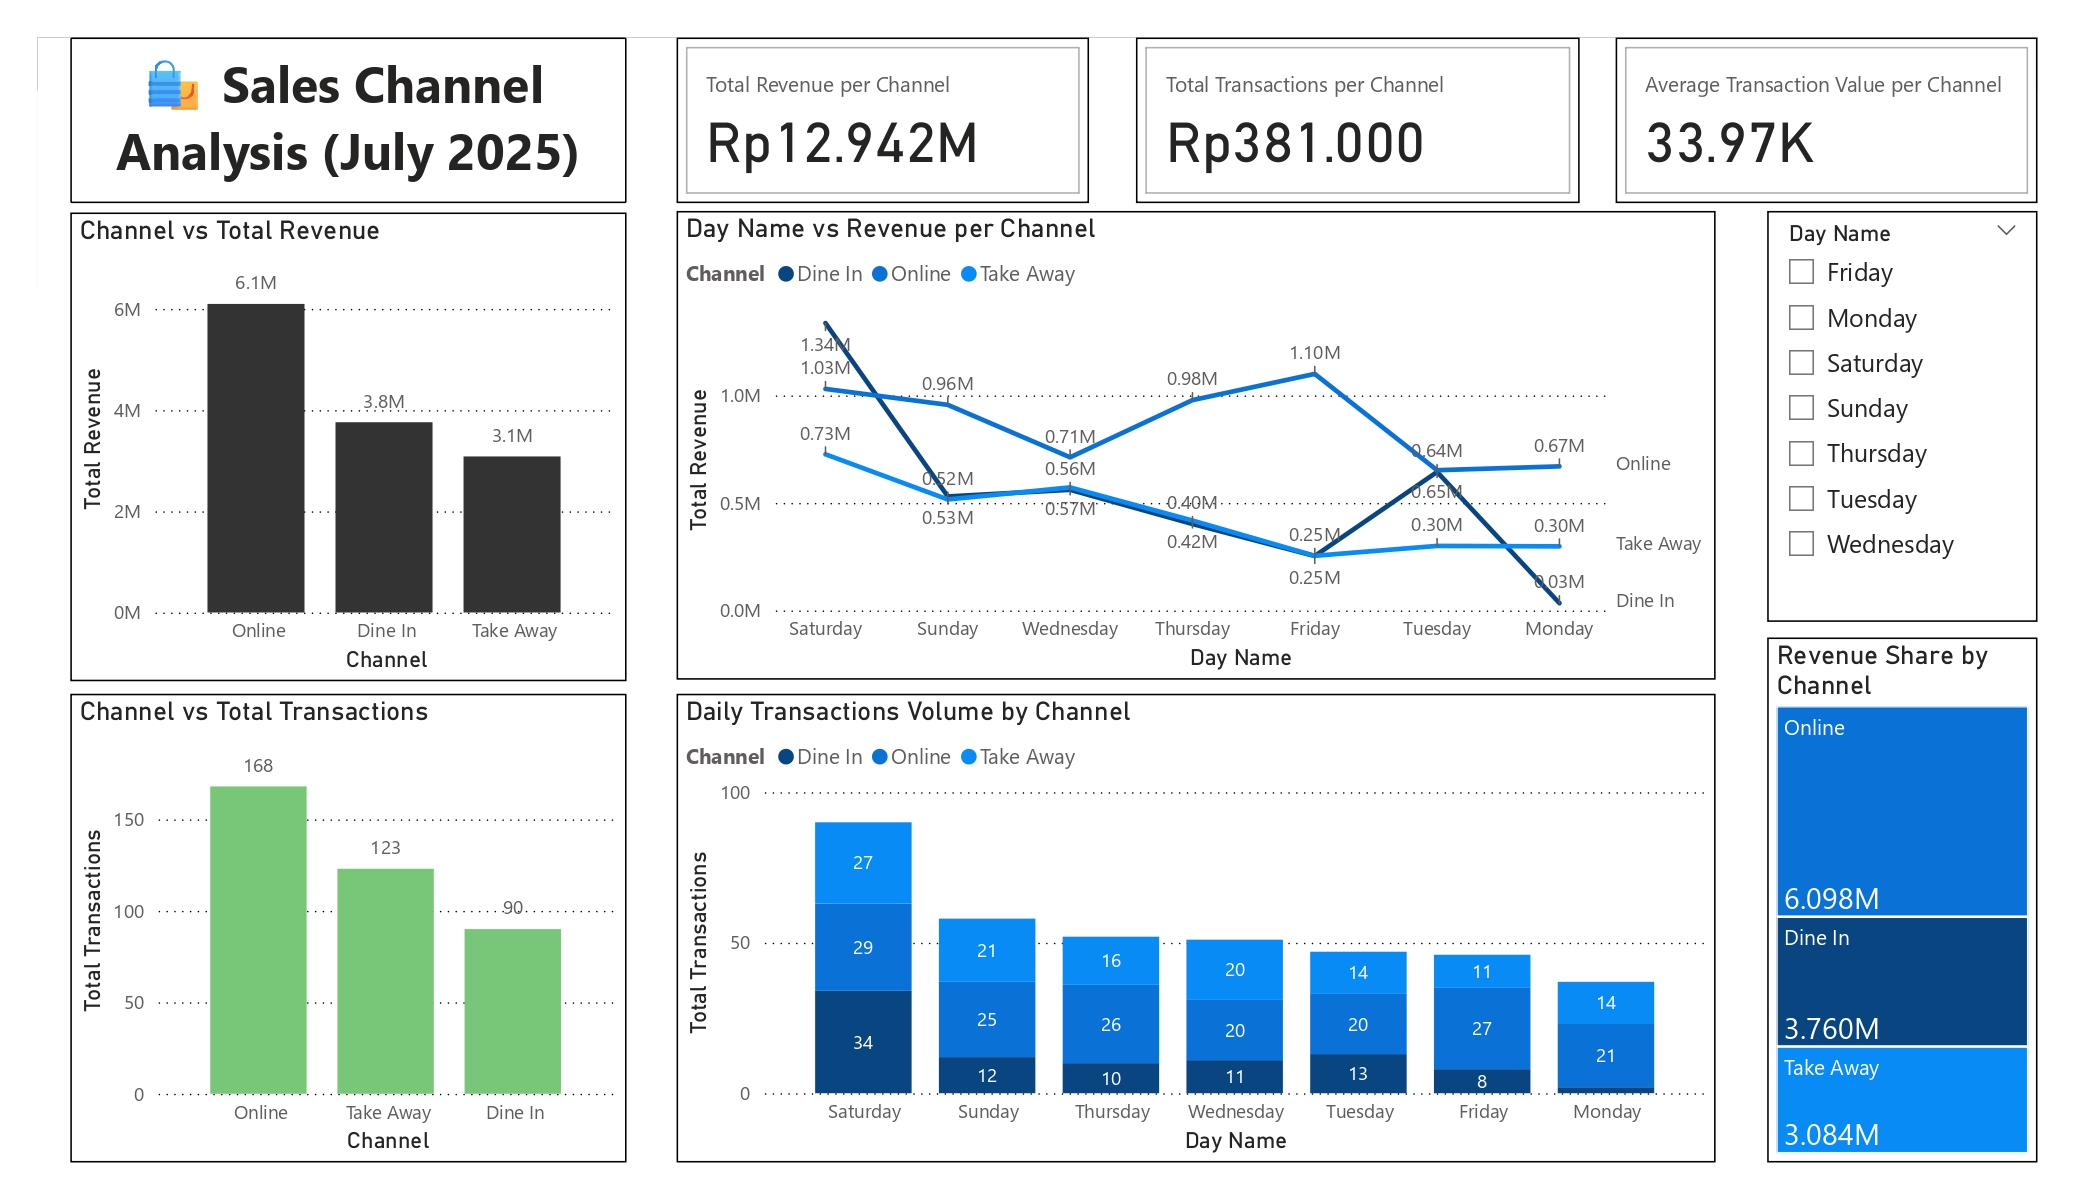

What the dashboard file says about the page in this screenshot:
{"tool":"powerbi","page":{"name":"sales_channel_analysis","canvas":[1280,720],"ordinal":3},"visuals":[{"type":"textbox","box":[21.4,0,355.7,105.7],"z":0},{"type":"cardVisual","fields":{"Data":["Laporan Penjualan.Total Revenue"]},"box":[408.6,0,264.3,105.7],"z":1},{"type":"cardVisual","fields":{"Data":["Laporan Penjualan.Total Transactions"]},"box":[702.9,0,284.3,105.7],"z":2},{"type":"cardVisual","fields":{"Data":["Laporan Penjualan.Average Transaction Value"]},"box":[1010,0,270,105.7],"z":3},{"type":"columnChart","title":"Channel vs Total Revenue","fields":{"Y":["Laporan Penjualan.Total Revenue"],"Category":["Laporan Penjualan.Mode_Penjualan"]},"box":[21.4,112,355.7,300],"z":4},{"type":"columnChart","title":"Channel vs Total Transactions","fields":{"Category":["Laporan Penjualan.Mode_Penjualan"],"Y":["Laporan Penjualan.Total Transactions"]},"box":[21.4,420,355.7,300],"z":5},{"type":"lineChart","title":"Day Name vs Revenue per Channel","fields":{"Category":["Laporan Penjualan.Day Name"],"Series":["Laporan Penjualan.Mode_Penjualan"],"Y":["Laporan Penjualan.Total Revenue"]},"box":[408.6,111.4,665.7,300],"z":6},{"type":"columnChart","title":"Daily Transactions Volume by Channel","fields":{"Category":["Laporan Penjualan.Day Name"],"Y":["Laporan Penjualan.Total Transactions"],"Series":["Laporan Penjualan.Mode_Penjualan"]},"box":[408.6,420,665.7,300],"z":7},{"type":"treemap","title":"Revenue Share by Channel","fields":{"Group":["Laporan Penjualan.Mode_Penjualan"],"Values":["Laporan Penjualan.Total Revenue"]},"box":[1107.1,384.3,172.9,335.7],"z":8},{"type":"slicer","fields":{"Values":["Laporan Penjualan.Day Name"]},"box":[1107.1,111.4,172.9,262.9],"z":9}]}

Visuals, with their boxes in screenshot pixels (x1, y1, x2, y2):
textbox: [71,38,627,203]
cardVisual - Laporan Penjualan.Total Revenue: [676,38,1089,203]
cardVisual - Laporan Penjualan.Total Transactions: [1136,38,1580,203]
cardVisual - Laporan Penjualan.Average Transaction Value: [1616,38,2038,203]
"Channel vs Total Revenue" columnChart: [71,212,627,681]
"Channel vs Total Transactions" columnChart: [71,694,627,1162]
"Day Name vs Revenue per Channel" lineChart: [676,212,1716,680]
"Daily Transactions Volume by Channel" columnChart: [676,694,1716,1162]
"Revenue Share by Channel" treemap: [1767,638,2038,1162]
slicer - Laporan Penjualan.Day Name: [1767,212,2038,622]
